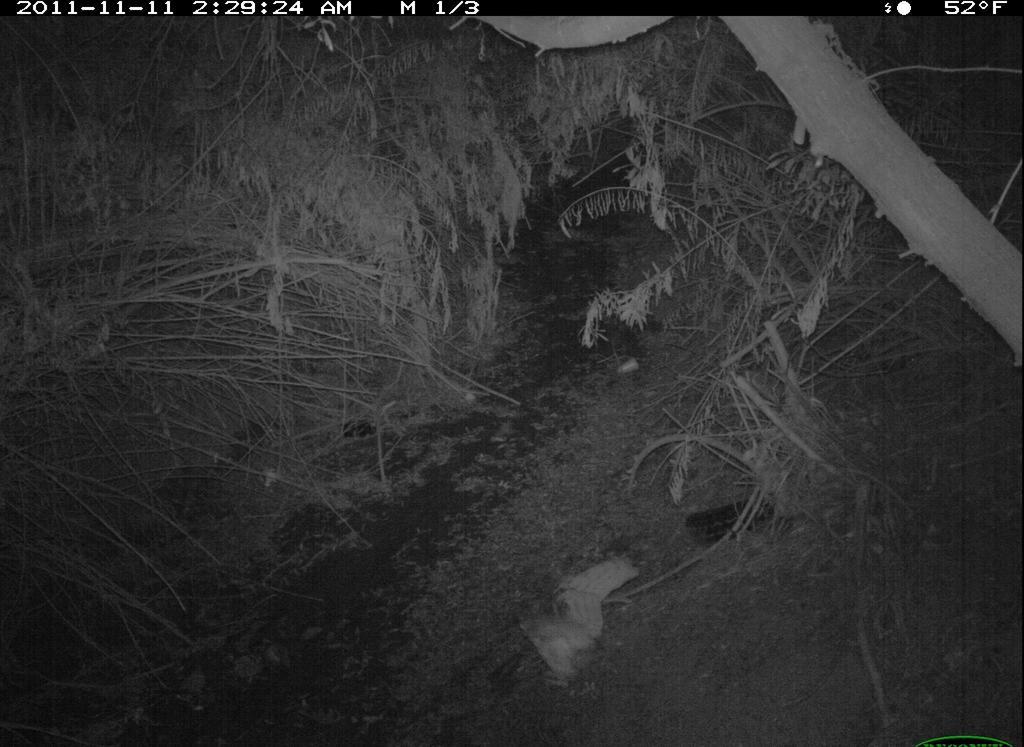bird: (511, 544, 648, 693)
